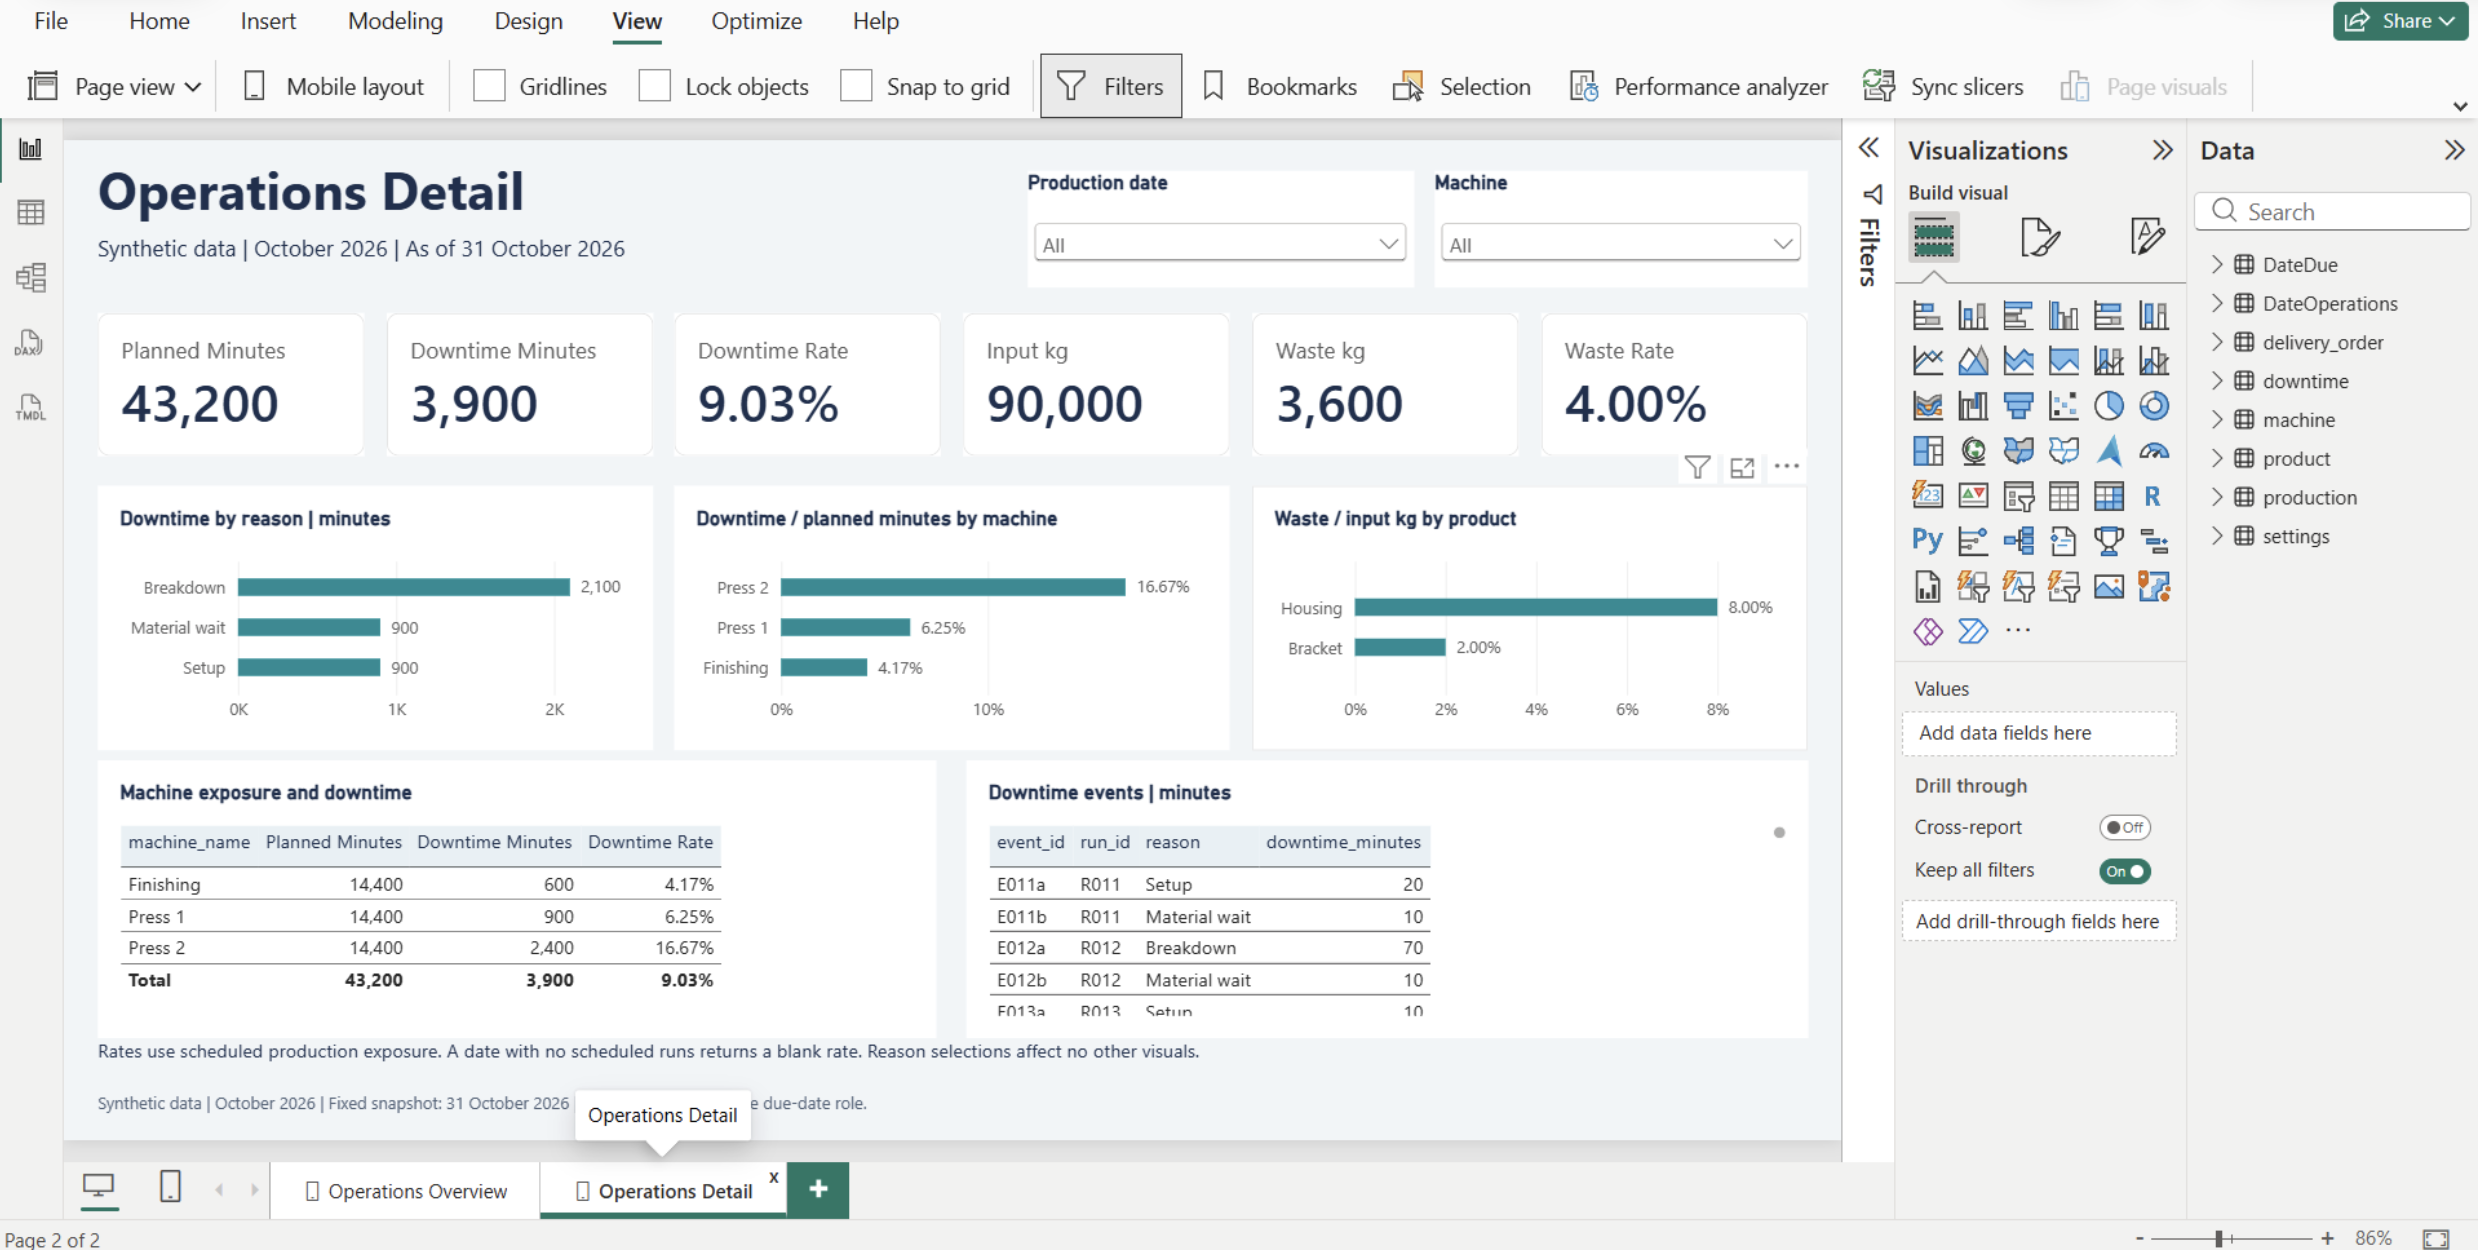

What the dashboard file says about the page in this screenshot:
{"tool":"powerbi","page":{"name":"Operations Detail","canvas":[1280,720],"ordinal":1},"visuals":[{"type":"textbox","box":[24,10,900,60],"z":19},{"type":"textbox","box":[24,66,940,40],"z":20},{"type":"slicer","title":"Production date","fields":{"Values":["DateOperations.date"]},"box":[694,22,278,84],"z":21},{"type":"slicer","title":"Machine","fields":{"Values":["machine.machine_name"]},"box":[987,22,269,84],"z":22},{"type":"cardVisual","fields":{"Data":["production.Planned Minutes"]},"box":[24,124,192,103],"z":23},{"type":"cardVisual","fields":{"Data":["production.Downtime Minutes"]},"box":[232,124,192,103],"z":24},{"type":"cardVisual","fields":{"Data":["production.Downtime Rate"]},"box":[440,124,192,103],"z":25},{"type":"cardVisual","fields":{"Data":["production.Input kg"]},"box":[648,124,192,103],"z":26},{"type":"cardVisual","fields":{"Data":["production.Waste kg"]},"box":[856,124,192,103],"z":27},{"type":"cardVisual","fields":{"Data":["production.Waste Rate"]},"box":[1064,124,192,103],"z":28},{"type":"barChart","title":"Downtime by reason | minutes","fields":{"Category":["downtime.reason"],"Y":["production.Downtime Minutes"]},"box":[24,249,400,190],"z":29},{"type":"barChart","title":"Downtime / planned minutes by machine","fields":{"Category":["machine.machine_name"],"Y":["production.Downtime Rate"]},"box":[440,249,400,190],"z":30},{"type":"barChart","title":"Waste / input kg by product","fields":{"Category":["product.product_name"],"Y":["production.Waste Rate"]},"box":[856,249,400,190],"z":31},{"type":"tableEx","title":"Machine exposure and downtime","fields":{"Values":["machine.machine_name","production.Planned Minutes","production.Downtime Minutes","production.Downtime Rate"]},"box":[24,446,604,200],"z":32},{"type":"tableEx","title":"Downtime events | minutes","fields":{"Values":["downtime.event_id","downtime.run_id","downtime.reason","downtime.downtime_minutes"]},"box":[650,446,606,200],"z":33},{"type":"textbox","box":[24,645,1232,42],"z":34},{"type":"textbox","box":[24,682,1232,38],"z":35}]}

Visuals, with their boxes on the page's 1280x720 design canvas (x1, y1, x2, y2). These are canvas units, not pixel positions in the 2478x1250 screenshot, which may show the page scaled, cropped or inside an application window:
textbox: crop(24, 10, 924, 70)
textbox: crop(24, 66, 964, 106)
"Production date" slicer: crop(694, 22, 972, 106)
"Machine" slicer: crop(987, 22, 1256, 106)
cardVisual - production.Planned Minutes: crop(24, 124, 216, 227)
cardVisual - production.Downtime Minutes: crop(232, 124, 424, 227)
cardVisual - production.Downtime Rate: crop(440, 124, 632, 227)
cardVisual - production.Input kg: crop(648, 124, 840, 227)
cardVisual - production.Waste kg: crop(856, 124, 1048, 227)
cardVisual - production.Waste Rate: crop(1064, 124, 1256, 227)
"Downtime by reason | minutes" barChart: crop(24, 249, 424, 439)
"Downtime / planned minutes by machine" barChart: crop(440, 249, 840, 439)
"Waste / input kg by product" barChart: crop(856, 249, 1256, 439)
"Machine exposure and downtime" tableEx: crop(24, 446, 628, 646)
"Downtime events | minutes" tableEx: crop(650, 446, 1256, 646)
textbox: crop(24, 645, 1256, 687)
textbox: crop(24, 682, 1256, 720)
